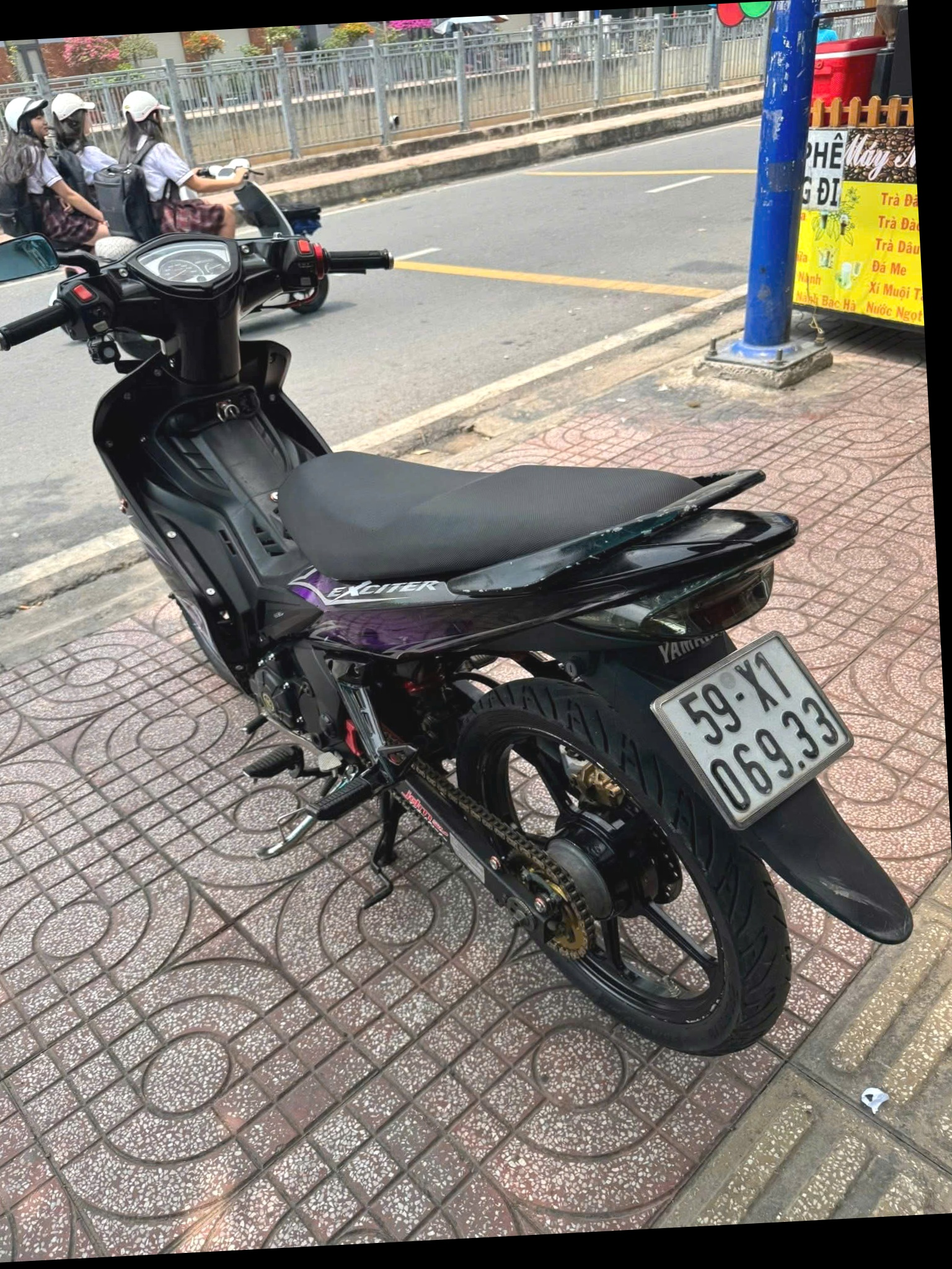Bien-so: (632, 649, 840, 859)
